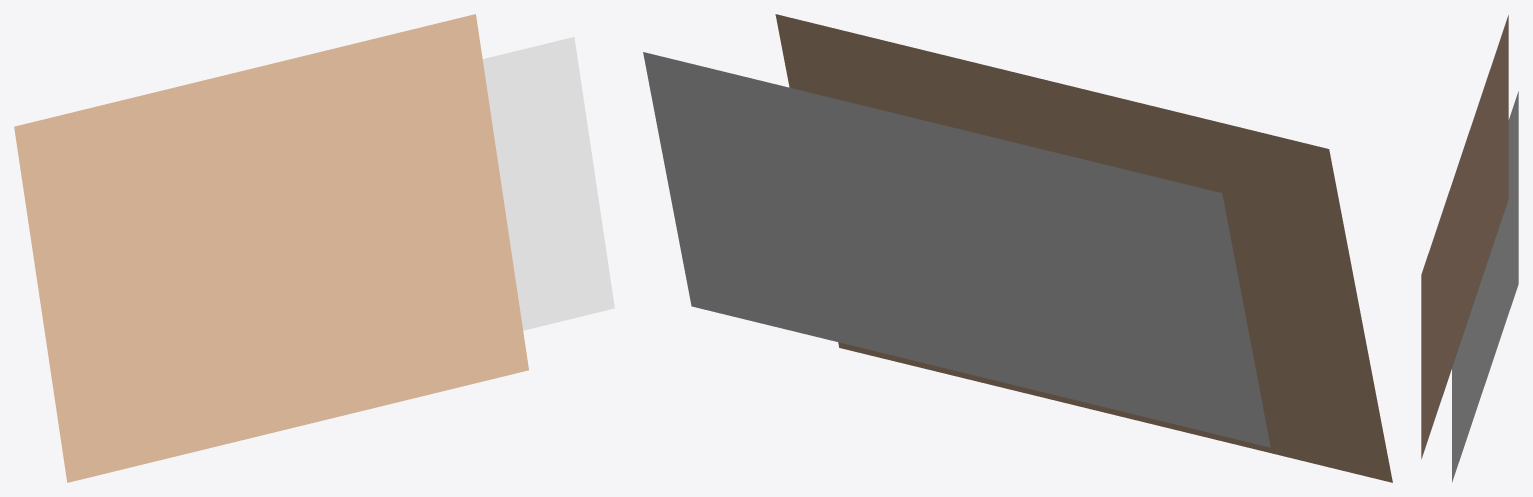
The model's file is 4848dishup_m.gltf.
The picture shows the model from 3 angles, left to right: view 1: azimuth 30°, elevation 25°; view 2: azimuth 150°, elevation 25°; view 3: azimuth 270°, elevation 25°; orthographic projection. The views are drawn at different scales.
Visible parts, largest first — view 1: 4848dishup_m; view 2: 4848dishup_m; view 3: 4848dishup_m.
Boxes of the visible parts, x1=… form: 4848dishup_m: x1=14, y1=14, x2=614, y2=482; 4848dishup_m: x1=643, y1=14, x2=1392, y2=482; 4848dishup_m: x1=1421, y1=15, x2=1518, y2=482.
Bounding box in the file's own units: 0.5598 × 0.2998 × 0.1013.
